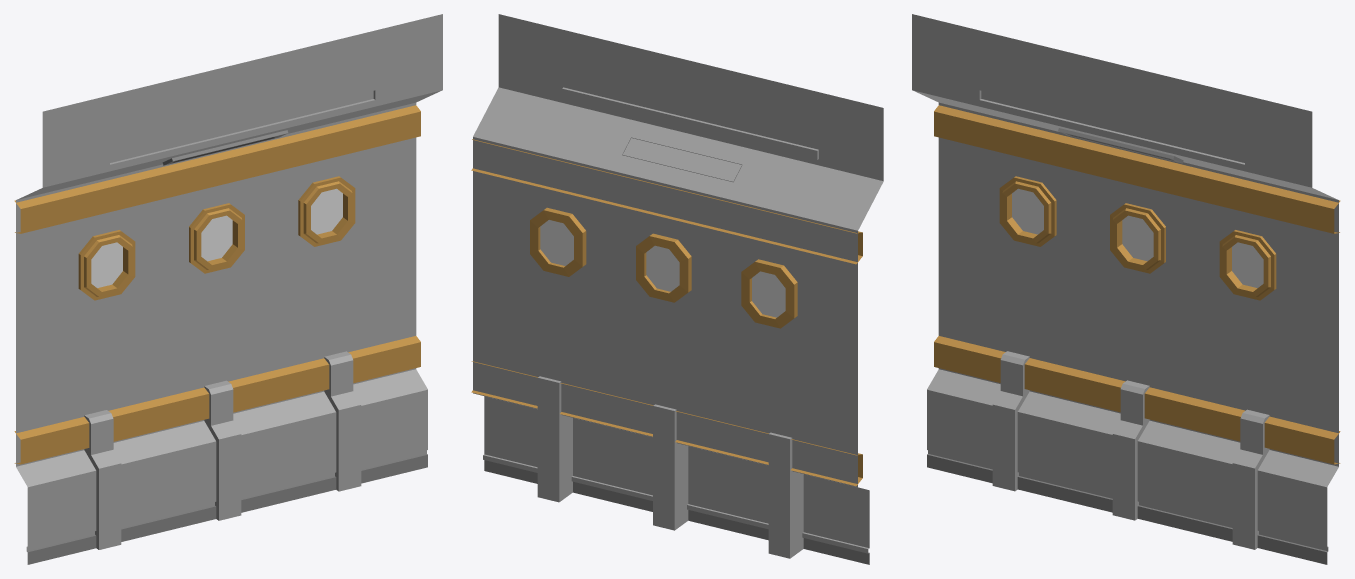
Rendered from smallwindows_wall_sideb.glb.
3 renders of one model, left to right at view 1: azimuth 30°, elevation 25°; view 2: azimuth 150°, elevation 25°; view 3: azimuth 330°, elevation 25°, orthographic. The views are drawn at different scales.
Parts seen in each view (by area): view 1: SmallWindows_Wall_SideB; view 2: SmallWindows_Wall_SideB; view 3: SmallWindows_Wall_SideB.
Part boxes in pixels (x1,y1,x2,y2): SmallWindows_Wall_SideB: [14, 14, 442, 564]; SmallWindows_Wall_SideB: [471, 14, 883, 564]; SmallWindows_Wall_SideB: [912, 14, 1340, 564].
Size of the model in its own units: 4 by 4.43 by 0.5261.
